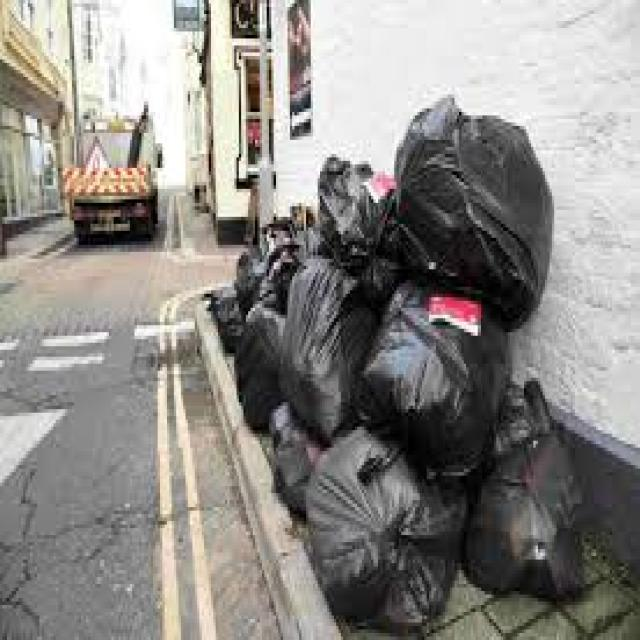garbage: (211, 92, 605, 633)
